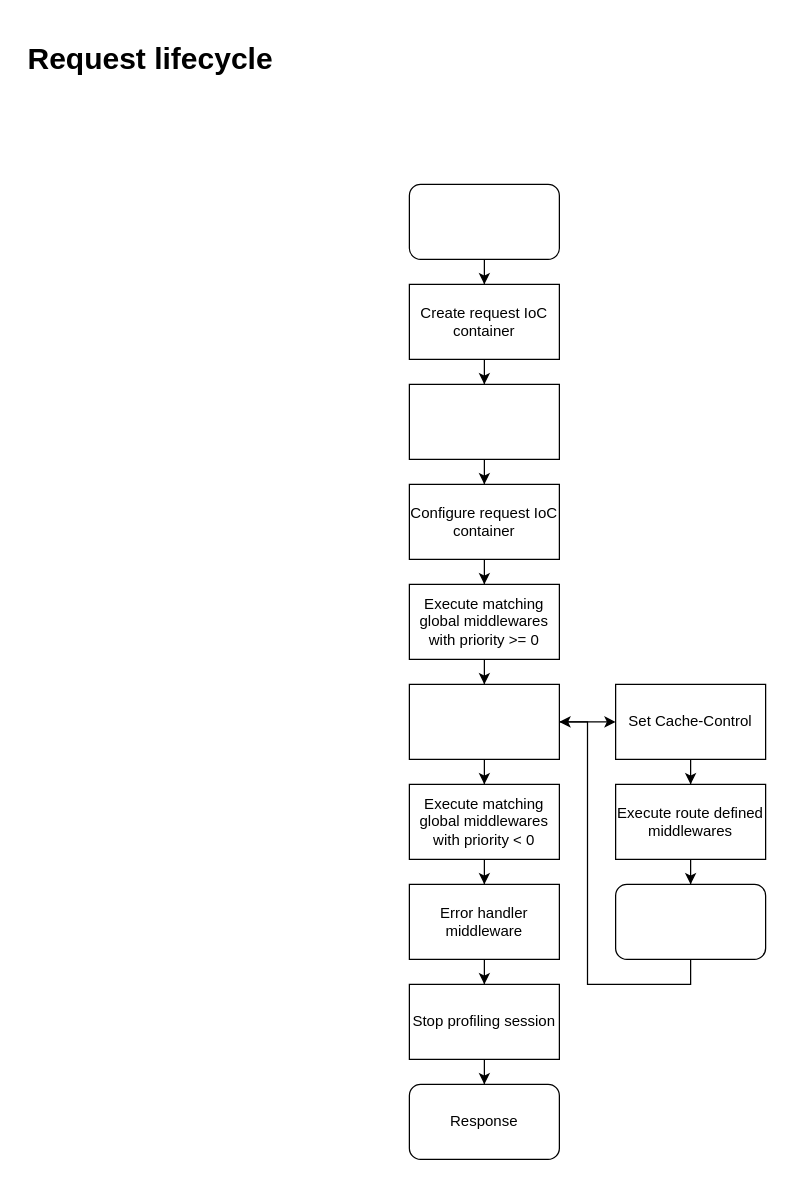
This 788x1181 diagram has some shape labels left out. The centre of each missing label's shape, as x and y in pixels:
"Execute matching route" goes at point 483,721.
"Request" goes at point 483,221.
"route.handle()" goes at point 690,921.
"Setup profiling session" goes at point 483,421.
